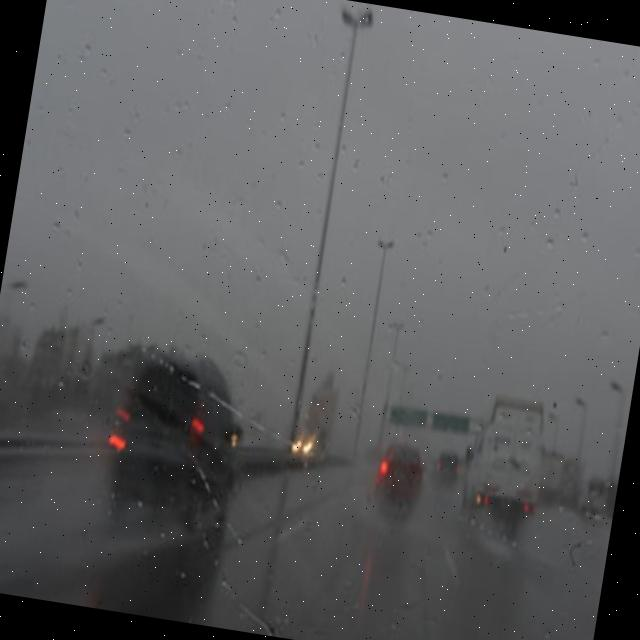car: (95, 340, 252, 540), (458, 412, 548, 535), (366, 436, 431, 519), (433, 448, 463, 487)
